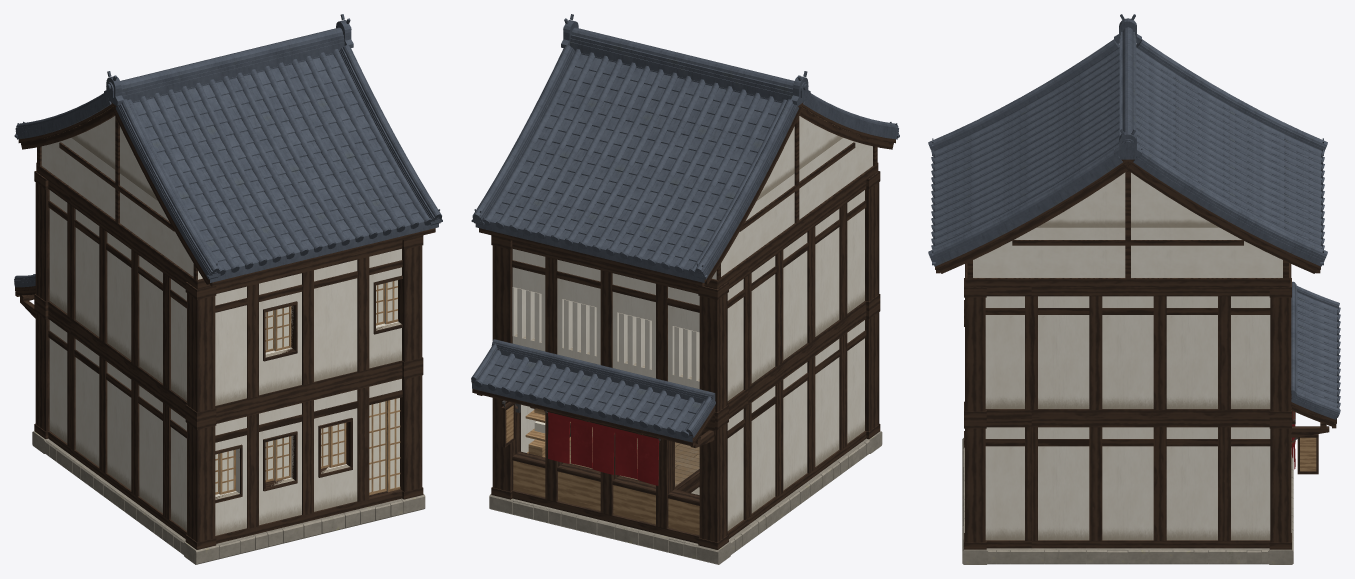
Rendered from HO_Bldg_Machiya_C.fbx.
The picture shows the model from 3 angles, left to right: view 1: azimuth 30°, elevation 25°; view 2: azimuth 150°, elevation 25°; view 3: azimuth 270°, elevation 25°; orthographic projection.
Visible parts, largest first — view 1: HO_Bldg_Machiya_C_RoofTiles, HO_Bldg_Machiya_C_Structure__Timber_Dark, HO_Bldg_Machiya_C_Structure__Plaster_White, HO_Bldg_Machiya_C_RoofFrame__Plaster_White, HO_Bldg_Machiya_C_Structure__Stone_Granite, HO_Bldg_Machiya_C_RoofFrame__Timber_Dark, HO_Bldg_Machiya_C_Structure__Shoji_Paper, HO_Bldg_Machiya_C_Structure__Timber_Light, HO_Bldg_Machiya_C_Door2__Shoji_Paper, HO_Bldg_Machiya_C_Door1__Shoji_Paper, HO_Bldg_Machiya_C_Door1__Timber_Light, HO_Bldg_Machiya_C_Door2__Timber_Light; view 2: HO_Bldg_Machiya_C_RoofTiles, HO_Bldg_Machiya_C_Structure__Timber_Dark, HO_Bldg_Machiya_C_Structure__Plaster_White, HO_Bldg_Machiya_C_Front__RoofTile_Clay, HO_Bldg_Machiya_C_RoofFrame__Plaster_White, HO_Bldg_Machiya_C_Structure__Stone_Granite, HO_Bldg_Machiya_C_RoofFrame__Timber_Dark, HO_Bldg_Machiya_C_Front__Cloth_Crimson, HO_Bldg_Machiya_C_Structure__Timber_Light, HO_Bldg_Machiya_C_Front__Timber_Dark, HO_Bldg_Machiya_C_Interior__Wood_Planks, HO_Bldg_Machiya_C_Interior__Timber_Light; view 3: HO_Bldg_Machiya_C_RoofTiles, HO_Bldg_Machiya_C_Structure__Plaster_White, HO_Bldg_Machiya_C_Structure__Timber_Dark, HO_Bldg_Machiya_C_RoofFrame__Plaster_White, HO_Bldg_Machiya_C_RoofFrame__Timber_Dark, HO_Bldg_Machiya_C_Structure__Stone_Granite, HO_Bldg_Machiya_C_Front__RoofTile_Clay, HO_Bldg_Machiya_C_Front__Timber_Dark, HO_Bldg_Machiya_C_SignFace.
Part boxes in pixels (x1,y1,x2,y2): HO_Bldg_Machiya_C_RoofTiles: (14, 14, 442, 282); HO_Bldg_Machiya_C_Structure__Timber_Dark: (34, 171, 423, 549); HO_Bldg_Machiya_C_Structure__Plaster_White: (49, 190, 401, 535); HO_Bldg_Machiya_C_RoofFrame__Plaster_White: (41, 116, 202, 279); HO_Bldg_Machiya_C_Structure__Stone_Granite: (32, 431, 425, 564); HO_Bldg_Machiya_C_RoofFrame__Timber_Dark: (18, 102, 435, 289); HO_Bldg_Machiya_C_Structure__Shoji_Paper: (215, 280, 397, 493); HO_Bldg_Machiya_C_Structure__Timber_Light: (215, 281, 398, 494); HO_Bldg_Machiya_C_Door2__Shoji_Paper: (369, 401, 385, 492); HO_Bldg_Machiya_C_Door1__Shoji_Paper: (387, 398, 399, 491); HO_Bldg_Machiya_C_Door1__Timber_Light: (386, 399, 400, 492); HO_Bldg_Machiya_C_Door2__Timber_Light: (369, 401, 386, 495); HO_Bldg_Machiya_C_RoofTiles: (471, 14, 899, 282); HO_Bldg_Machiya_C_Structure__Timber_Dark: (491, 171, 880, 549); HO_Bldg_Machiya_C_Structure__Plaster_White: (512, 190, 864, 530); HO_Bldg_Machiya_C_Front__RoofTile_Clay: (471, 339, 715, 442); HO_Bldg_Machiya_C_RoofFrame__Plaster_White: (712, 116, 872, 279); HO_Bldg_Machiya_C_Structure__Stone_Granite: (489, 431, 882, 564); HO_Bldg_Machiya_C_RoofFrame__Timber_Dark: (479, 102, 895, 289); HO_Bldg_Machiya_C_Front__Cloth_Crimson: (548, 412, 659, 485); HO_Bldg_Machiya_C_Structure__Timber_Light: (513, 460, 699, 535); HO_Bldg_Machiya_C_Front__Timber_Dark: (472, 382, 715, 447); HO_Bldg_Machiya_C_Interior__Wood_Planks: (569, 427, 699, 486); HO_Bldg_Machiya_C_Interior__Timber_Light: (525, 408, 570, 457); HO_Bldg_Machiya_C_RoofTiles: (928, 14, 1327, 266); HO_Bldg_Machiya_C_Structure__Plaster_White: (985, 296, 1270, 540); HO_Bldg_Machiya_C_Structure__Timber_Dark: (964, 264, 1291, 549); HO_Bldg_Machiya_C_RoofFrame__Plaster_White: (973, 172, 1282, 277); HO_Bldg_Machiya_C_RoofFrame__Timber_Dark: (935, 159, 1320, 286); HO_Bldg_Machiya_C_Structure__Stone_Granite: (962, 438, 1293, 564); HO_Bldg_Machiya_C_Front__RoofTile_Clay: (1291, 281, 1340, 419); HO_Bldg_Machiya_C_Front__Timber_Dark: (1291, 394, 1336, 474); HO_Bldg_Machiya_C_SignFace: (1300, 437, 1316, 471).
Bounding box in the file's own units: 17.54 × 29.96 × 25.67.
